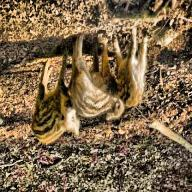boar: (19, 58, 74, 159), (72, 43, 119, 133), (113, 34, 159, 110)
